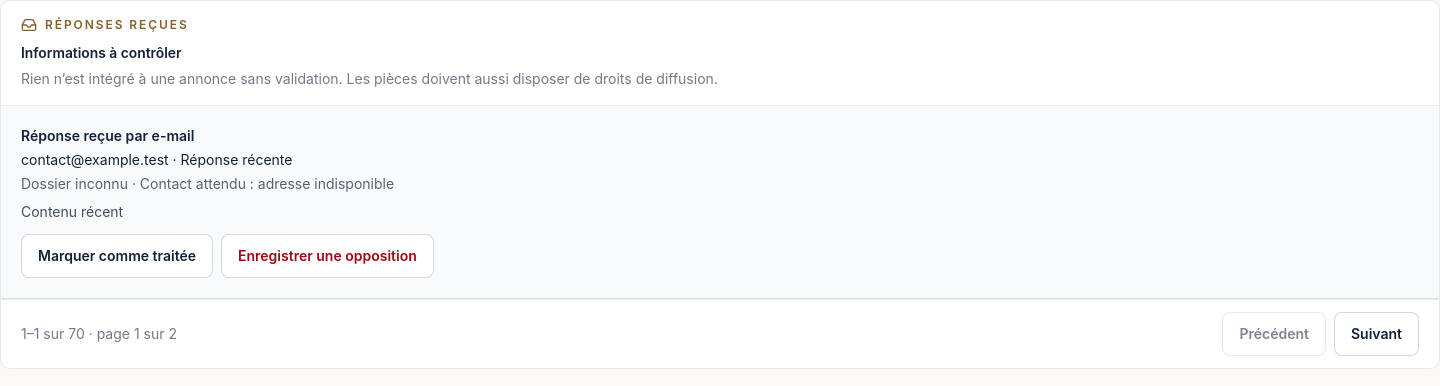
it: AdminInformationAgentReviewPanel › lets an admin reach an older response beyond the first page
Expected: the text "Contenu récent" is shown, [21, 203, 123, 220]
Click the button with aria-label "Suivant — réponses et informations à contrôler": (1376, 334) [1334, 312, 1419, 356]
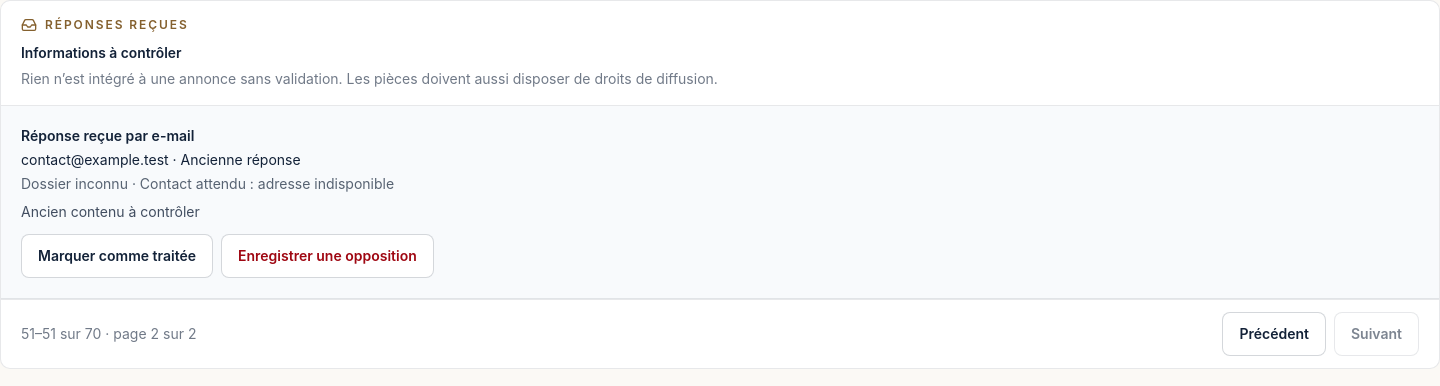
Result: the text "Ancien contenu à contrôler" is shown at [21, 203, 200, 220]
Result: the text "Contenu récent" is gone
